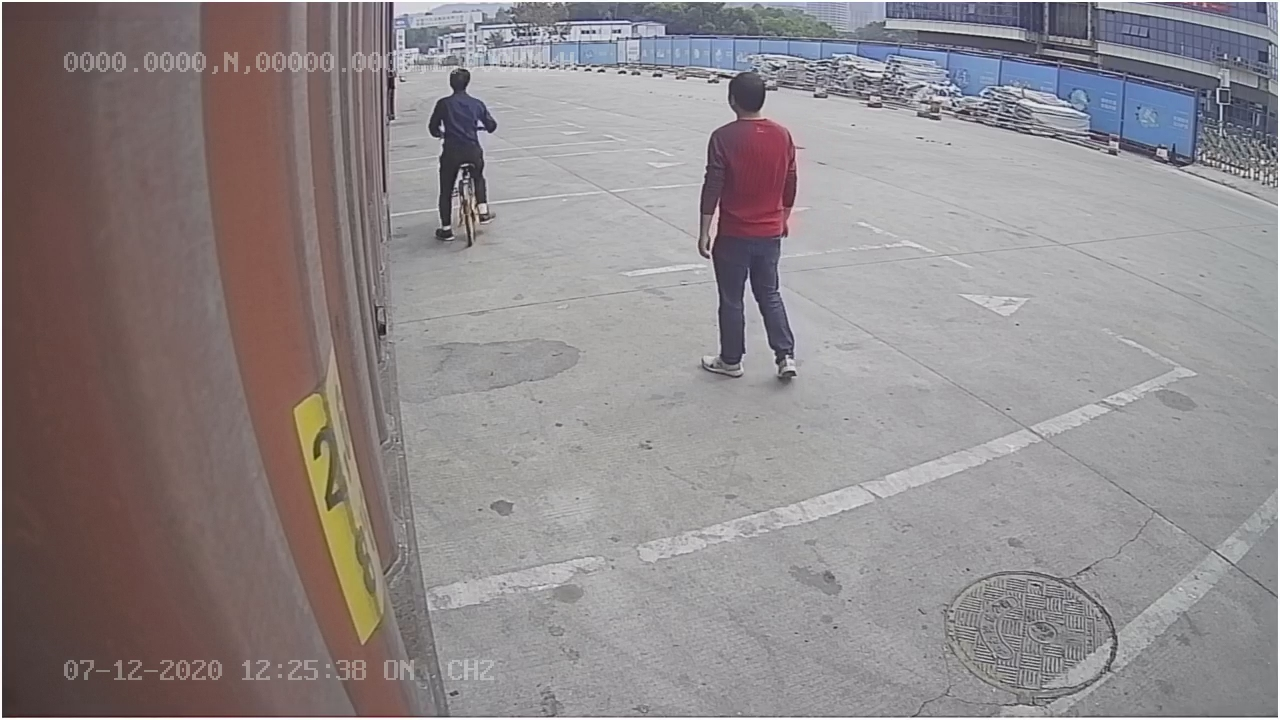person: (690, 65, 803, 386)
